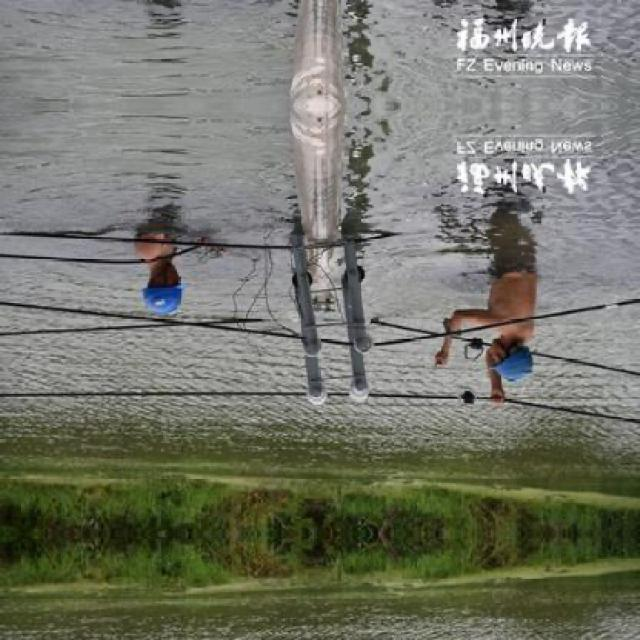con casco: (132, 239, 204, 335), (478, 320, 556, 403)
